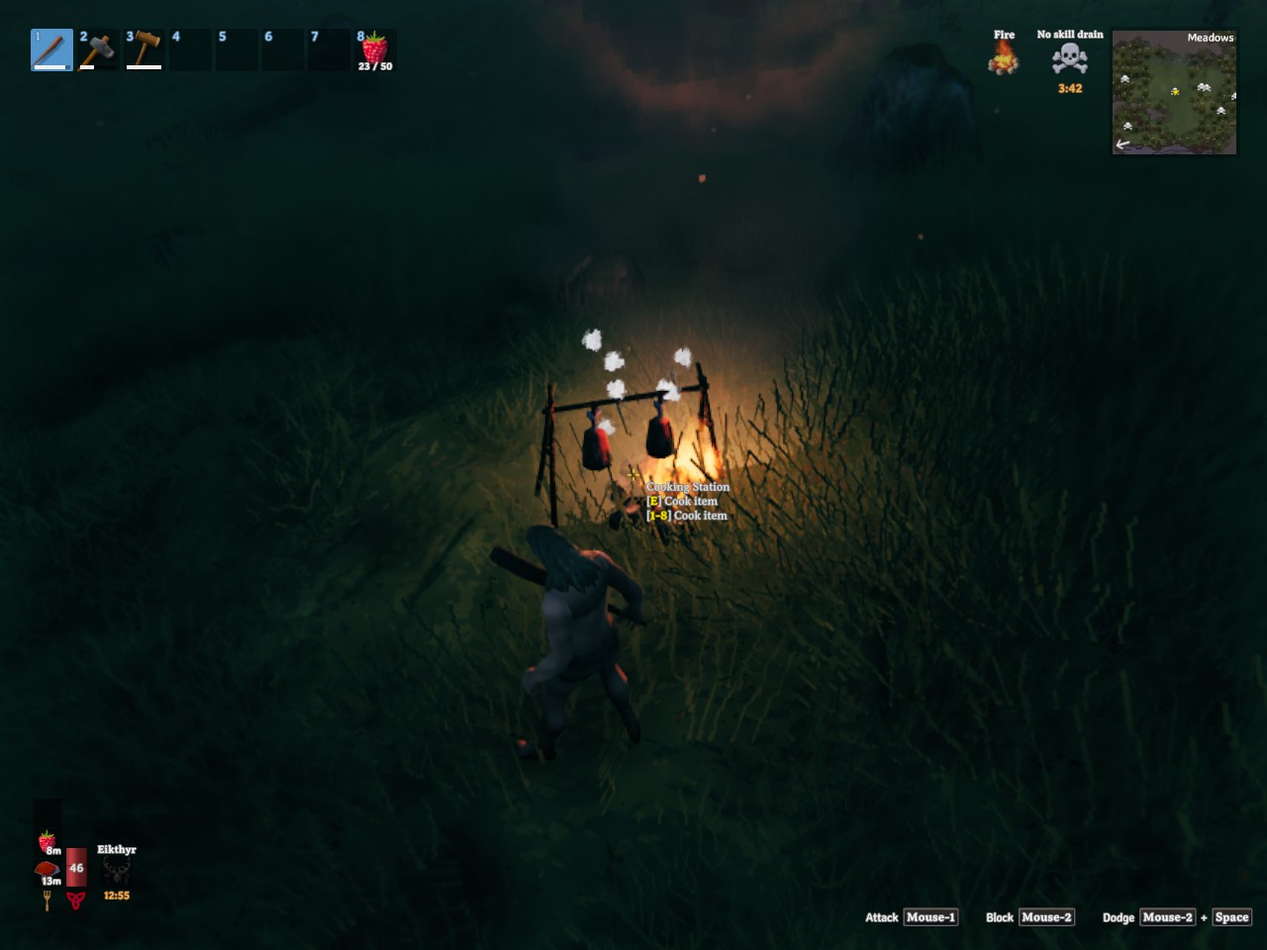Club: (490, 547, 546, 585)
Cook Station: (534, 384, 677, 526), (534, 384, 668, 526), (679, 364, 719, 458), (680, 363, 719, 458), (646, 428, 677, 458)
Food Indicator: (34, 832, 64, 886)
Health Bar: (66, 849, 87, 890)
Hotbar: (27, 20, 424, 100)
Status Indicator: (986, 27, 1106, 76), (1057, 79, 1082, 93)
